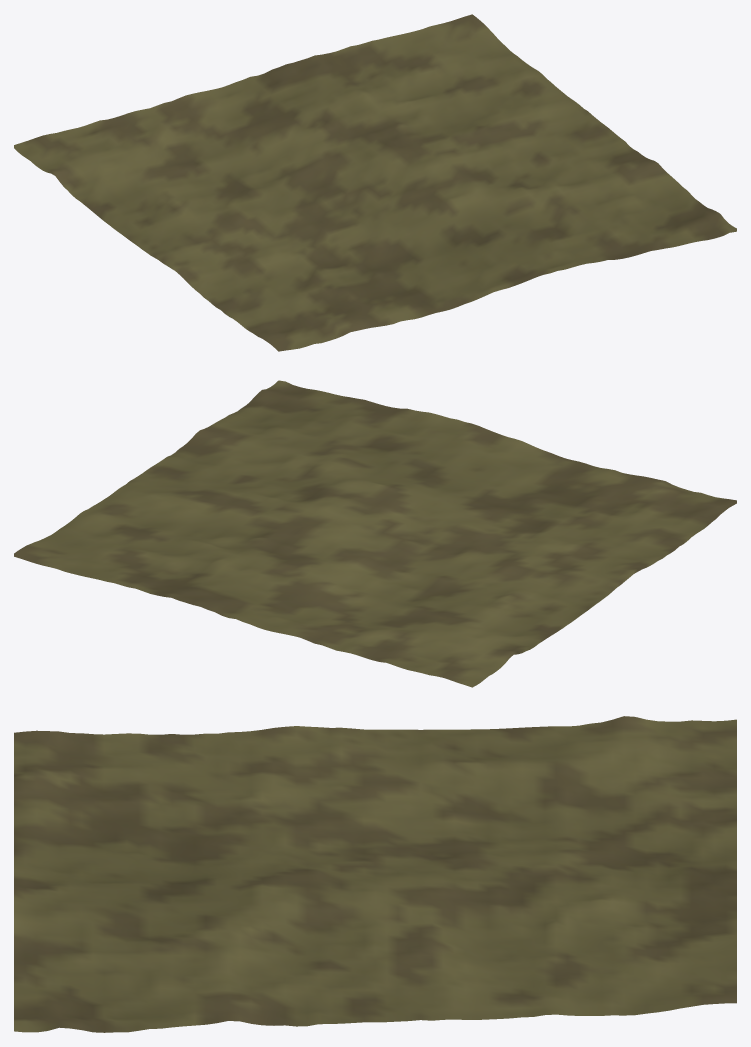
File: land_f_05_03.glb
3 views of the same model, one above another, from view 1: azimuth 30°, elevation 25°; view 2: azimuth 150°, elevation 25°; view 3: azimuth 270°, elevation 25° (orthographic). The views are drawn at different scales.
Visible parts, largest first — view 1: land_f_05_03; view 2: land_f_05_03; view 3: land_f_05_03.
Part boxes in pixels (x1,y1,x2,y2): land_f_05_03: (14, 14, 736, 351); land_f_05_03: (14, 380, 736, 687); land_f_05_03: (14, 716, 736, 1032).
Bounding box in the file's own units: 3840 × 271 × 3840.
